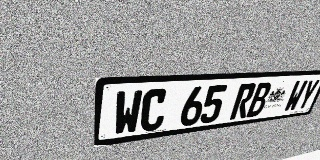5: (199, 85, 228, 124)
6: (179, 86, 208, 127)
B: (246, 82, 273, 118)
C: (139, 88, 169, 132)
R: (229, 83, 257, 120)
W: (113, 90, 143, 136), (282, 80, 308, 112)
Y: (295, 79, 320, 111)
